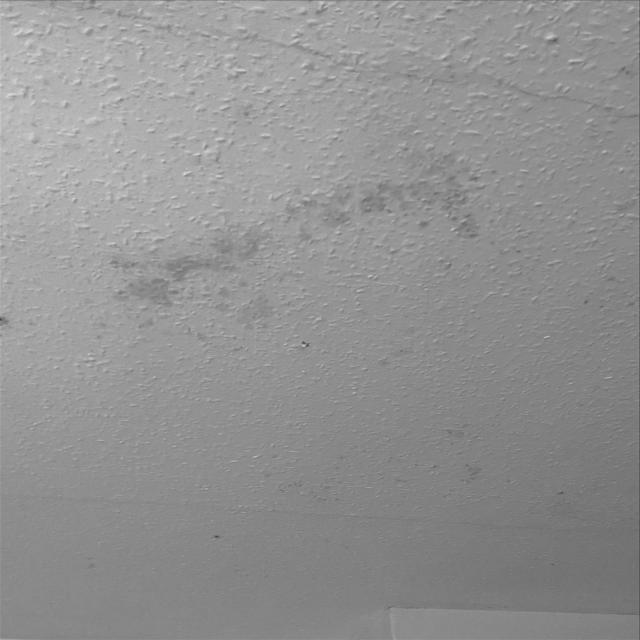stain marks: (87, 144, 533, 340), (374, 348, 516, 496), (226, 454, 376, 514), (578, 192, 640, 328), (0, 313, 48, 337)
